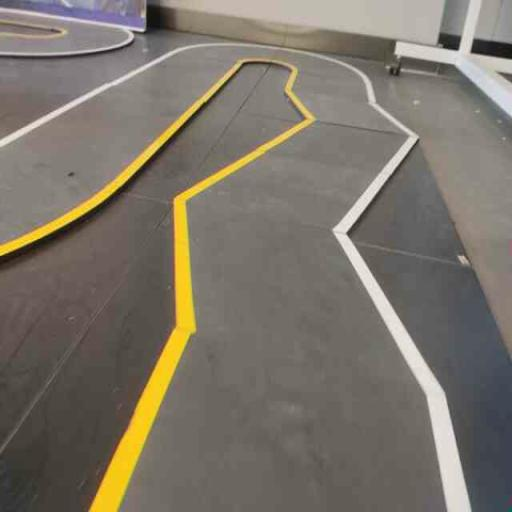crossleft: (154, 194, 473, 401)
